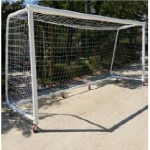goals: (5, 3, 145, 127)
